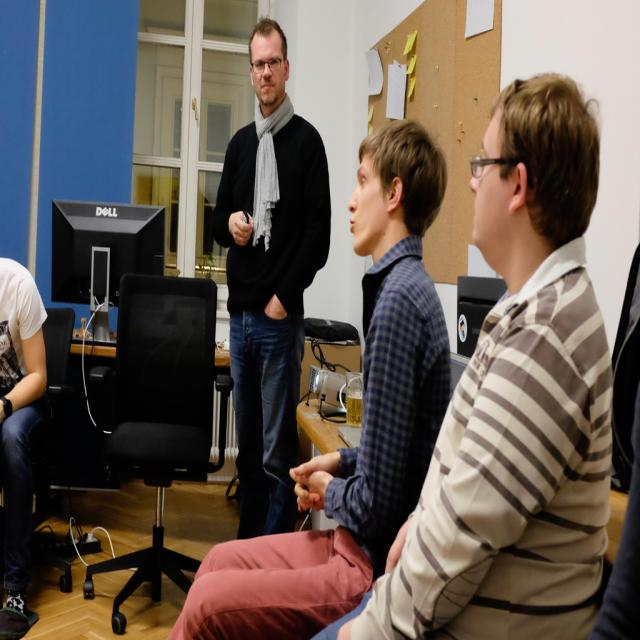chair: (74, 273, 216, 632), (304, 318, 362, 374)
desk: (73, 342, 228, 354)
person: (322, 70, 614, 638), (292, 118, 452, 570), (211, 20, 332, 533), (0, 257, 55, 628)
tv: (50, 199, 164, 314)
